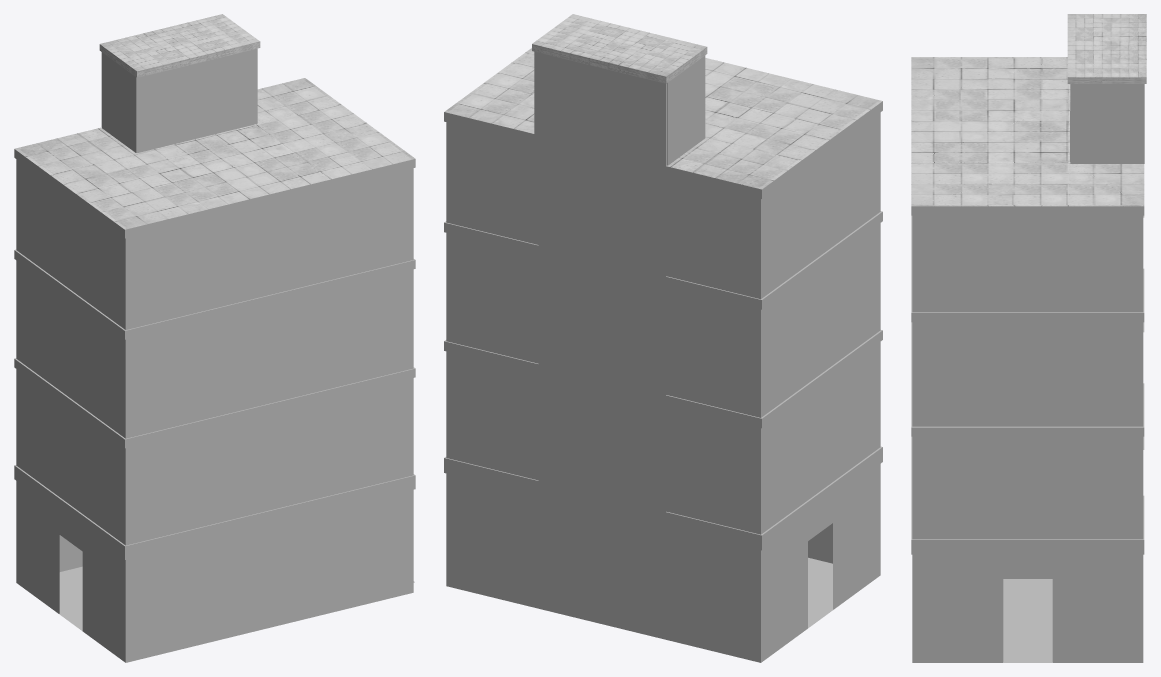
Rendered from 001-Building-Enterable.fbx.
The picture shows the model from 3 angles, left to right: view 1: azimuth 30°, elevation 25°; view 2: azimuth 150°, elevation 25°; view 3: azimuth 270°, elevation 25°; orthographic projection. The views are drawn at different scales.
Parts seen in each view (by area): view 1: Entrance01; view 2: Entrance01; view 3: Entrance01.
Boxes of the visible parts, x1,y1,x2,y2 form: Entrance01: [14, 14, 415, 662]; Entrance01: [444, 14, 882, 662]; Entrance01: [911, 14, 1146, 662].
Size of the model in its own units: 1274 by 2163 by 848.
